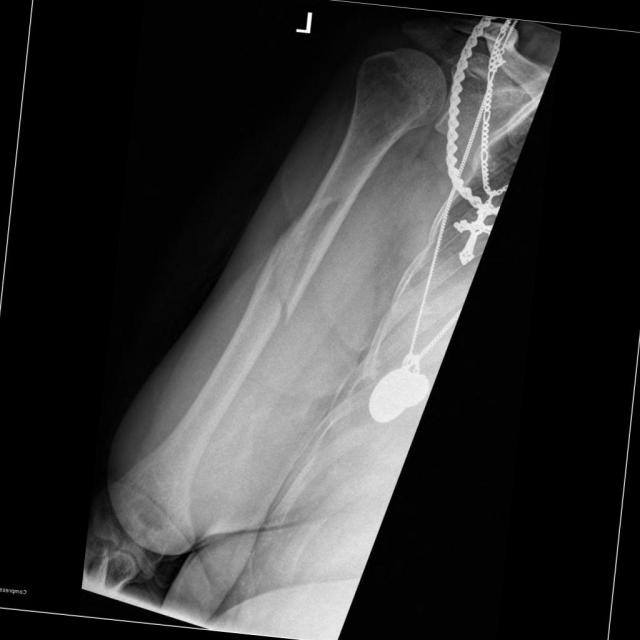Spiral: (254, 206, 332, 335)
